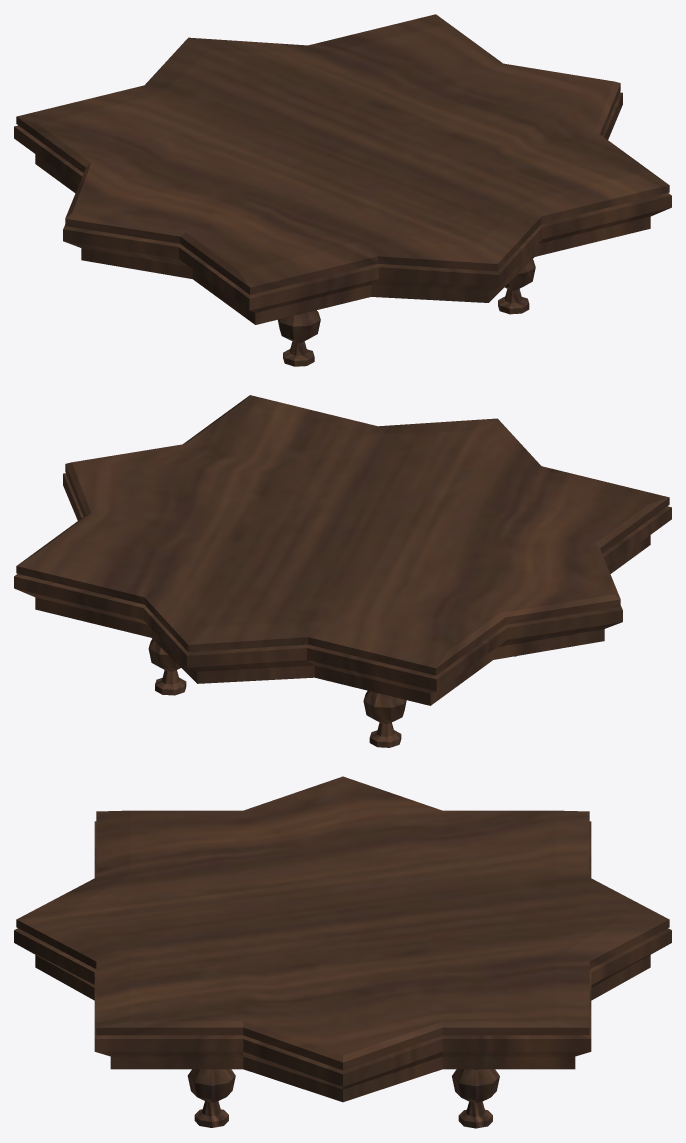
Rendered from StarTable.fbx.
The picture shows the model from 3 angles, top to bottom: view 1: azimuth 30°, elevation 25°; view 2: azimuth 150°, elevation 25°; view 3: azimuth 270°, elevation 25°; orthographic projection. The views are drawn at different scales.
Parts seen in each view (by area): view 1: Cube.021; view 2: Cube.021; view 3: Cube.021.
Boxes of the visible parts, x1,y1,x2,y2 form: Cube.021: (14, 14, 671, 366); Cube.021: (14, 395, 671, 747); Cube.021: (14, 776, 671, 1128).
Size of the model in its own units: 425 by 102 by 410.
1 material, 1 textured.
